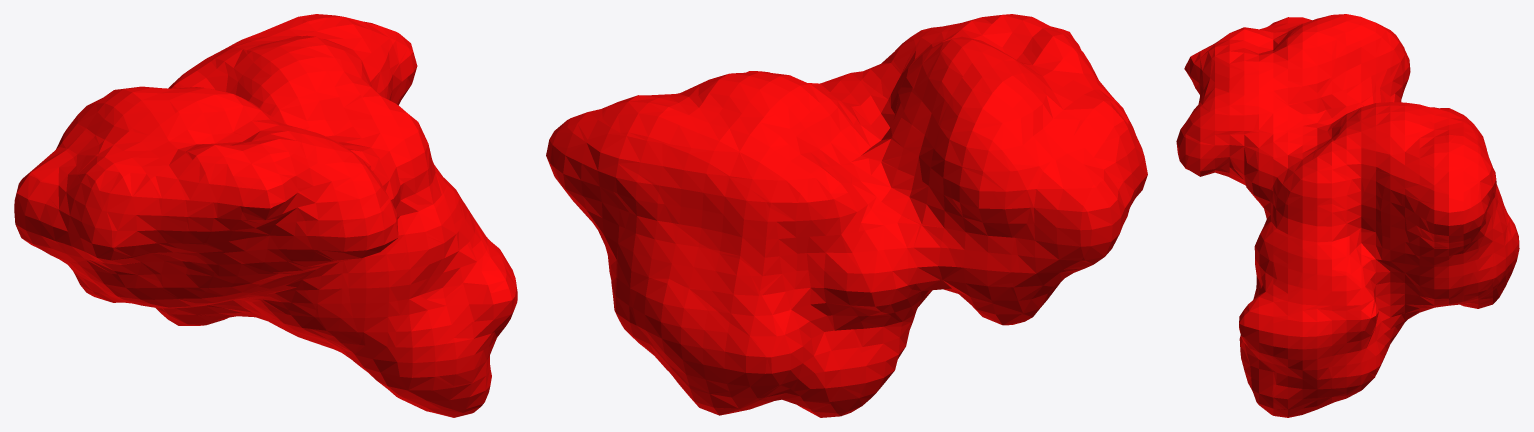
File: purU_coarse.dae
The picture shows the model from 3 angles, left to right: view 1: azimuth 30°, elevation 25°; view 2: azimuth 150°, elevation 25°; view 3: azimuth 270°, elevation 25°; orthographic projection. The views are drawn at different scales.
Parts seen in each view (by area): view 1: purU; view 2: purU; view 3: purU.
Part boxes in pixels (left/top/right/bottom): purU: left=14, top=14, right=517, bottom=417; purU: left=546, top=14, right=1147, bottom=417; purU: left=1176, top=14, right=1519, bottom=417.
Bounding box in the file's own units: 67.77 × 52.24 × 55.2.
